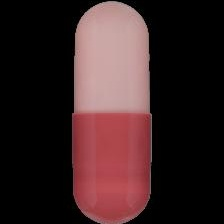33358-273: (0, 0, 224, 224)
